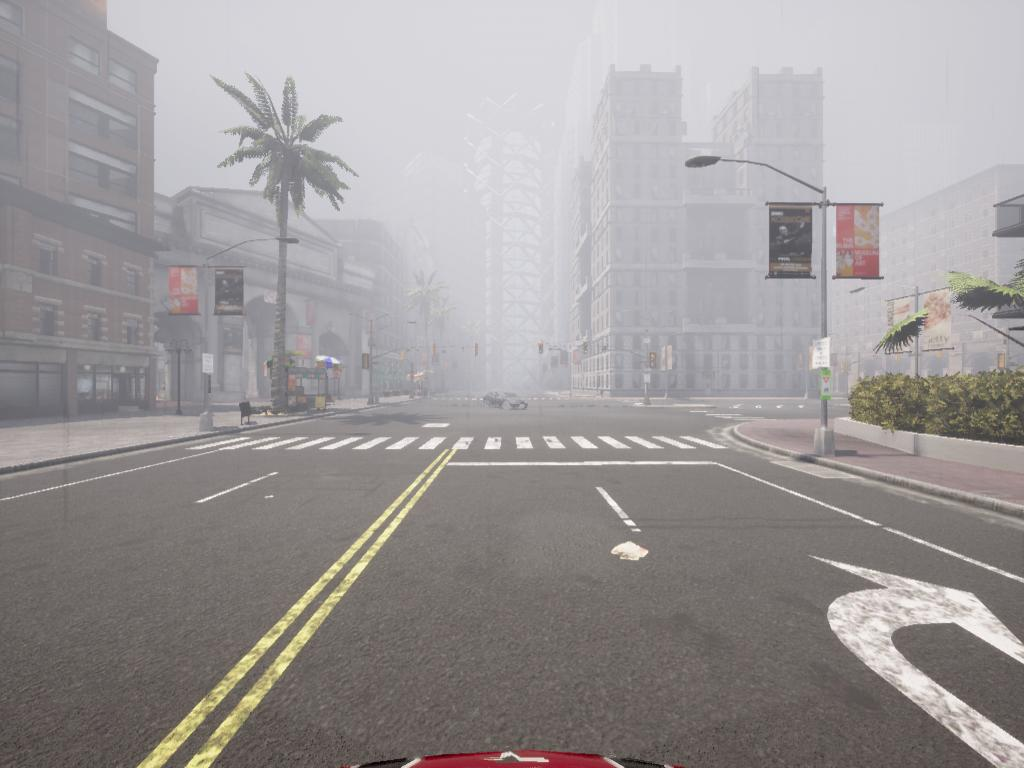traffic_light: (650, 354, 661, 369), (539, 341, 545, 358), (474, 343, 480, 360), (433, 343, 439, 359), (584, 344, 589, 356)
